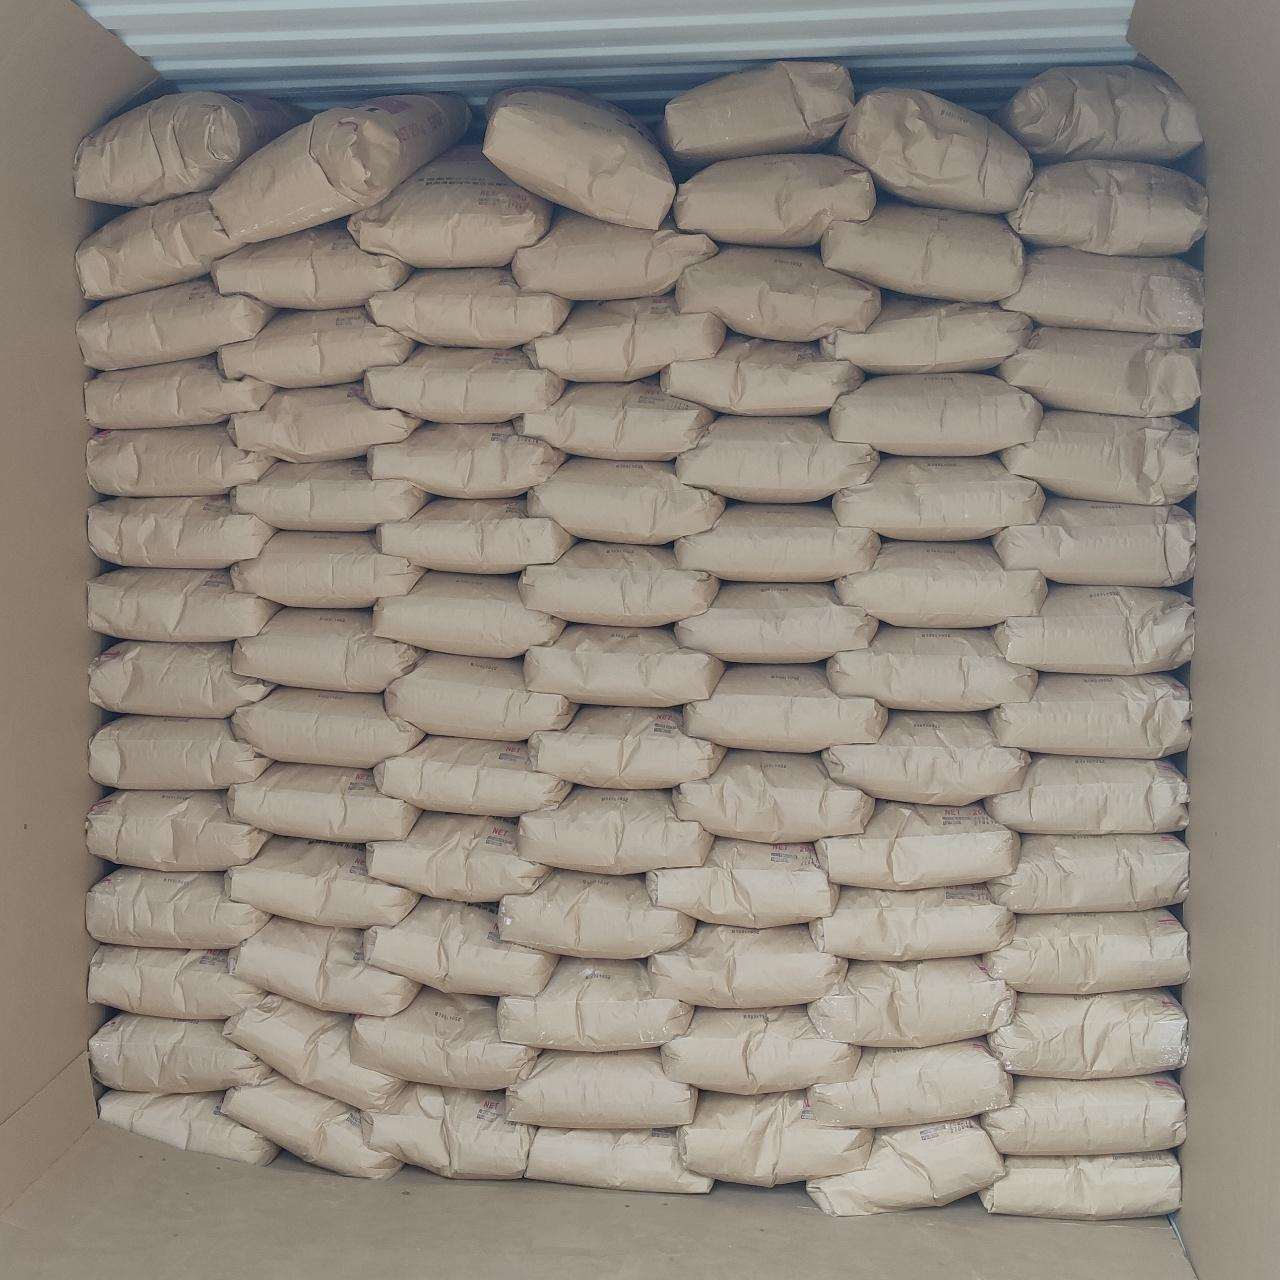sack: (209, 95, 470, 244), (483, 90, 674, 229), (74, 91, 300, 206), (348, 145, 554, 267), (839, 88, 1032, 212), (224, 995, 404, 1112), (821, 202, 1023, 301), (999, 64, 1201, 164), (821, 710, 1030, 804), (658, 62, 855, 162), (806, 1118, 1005, 1216), (1007, 159, 1207, 256), (365, 897, 558, 995), (349, 987, 538, 1088), (675, 247, 880, 340), (222, 1074, 403, 1178), (511, 209, 717, 300), (809, 956, 1016, 1047), (77, 275, 274, 370), (231, 917, 418, 1016), (672, 154, 874, 245), (497, 956, 692, 1051), (828, 624, 1037, 712), (808, 1036, 1012, 1126), (996, 327, 1200, 417), (680, 1090, 873, 1185), (836, 542, 1047, 627), (1002, 410, 1197, 503), (77, 192, 247, 298), (683, 665, 887, 753), (995, 584, 1193, 674), (210, 220, 410, 309), (992, 498, 1194, 586), (674, 751, 873, 840), (988, 990, 1187, 1080), (818, 802, 1020, 890), (830, 373, 1042, 456), (999, 247, 1201, 334), (832, 458, 1046, 540), (661, 1006, 859, 1094), (982, 908, 1189, 993), (676, 416, 879, 502), (988, 674, 1190, 760), (647, 837, 838, 927), (225, 836, 418, 925), (518, 785, 712, 874), (498, 871, 694, 958), (527, 458, 724, 544), (519, 542, 719, 626), (649, 922, 845, 1008), (372, 572, 566, 658), (982, 1073, 1185, 1155), (366, 812, 549, 903), (384, 654, 577, 740), (675, 583, 878, 663), (366, 268, 571, 348), (532, 297, 726, 381), (524, 625, 724, 706), (674, 504, 880, 583), (527, 706, 724, 788), (983, 755, 1189, 833), (361, 1085, 535, 1178), (232, 608, 423, 692), (987, 835, 1189, 913), (660, 338, 864, 415), (218, 307, 415, 387), (823, 297, 1032, 372), (516, 381, 714, 459), (809, 885, 1013, 961), (373, 737, 570, 816), (231, 687, 424, 767), (375, 497, 576, 573), (365, 347, 565, 422), (367, 423, 566, 498), (227, 763, 420, 840), (87, 867, 268, 948), (232, 531, 424, 607), (91, 1013, 272, 1094), (86, 790, 268, 870), (230, 384, 421, 461), (508, 1049, 695, 1126), (88, 568, 280, 642), (231, 459, 431, 530), (86, 354, 275, 428), (89, 642, 273, 719), (979, 1152, 1179, 1220), (87, 496, 274, 567), (87, 424, 275, 495), (87, 945, 266, 1019), (100, 1090, 279, 1164), (90, 716, 272, 789), (525, 1126, 713, 1193)
